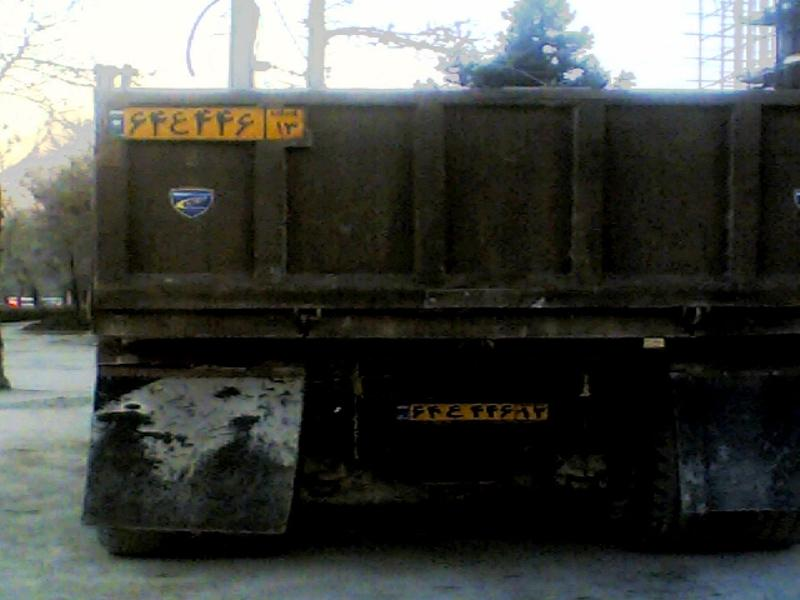Plate: (396, 399, 555, 426)
